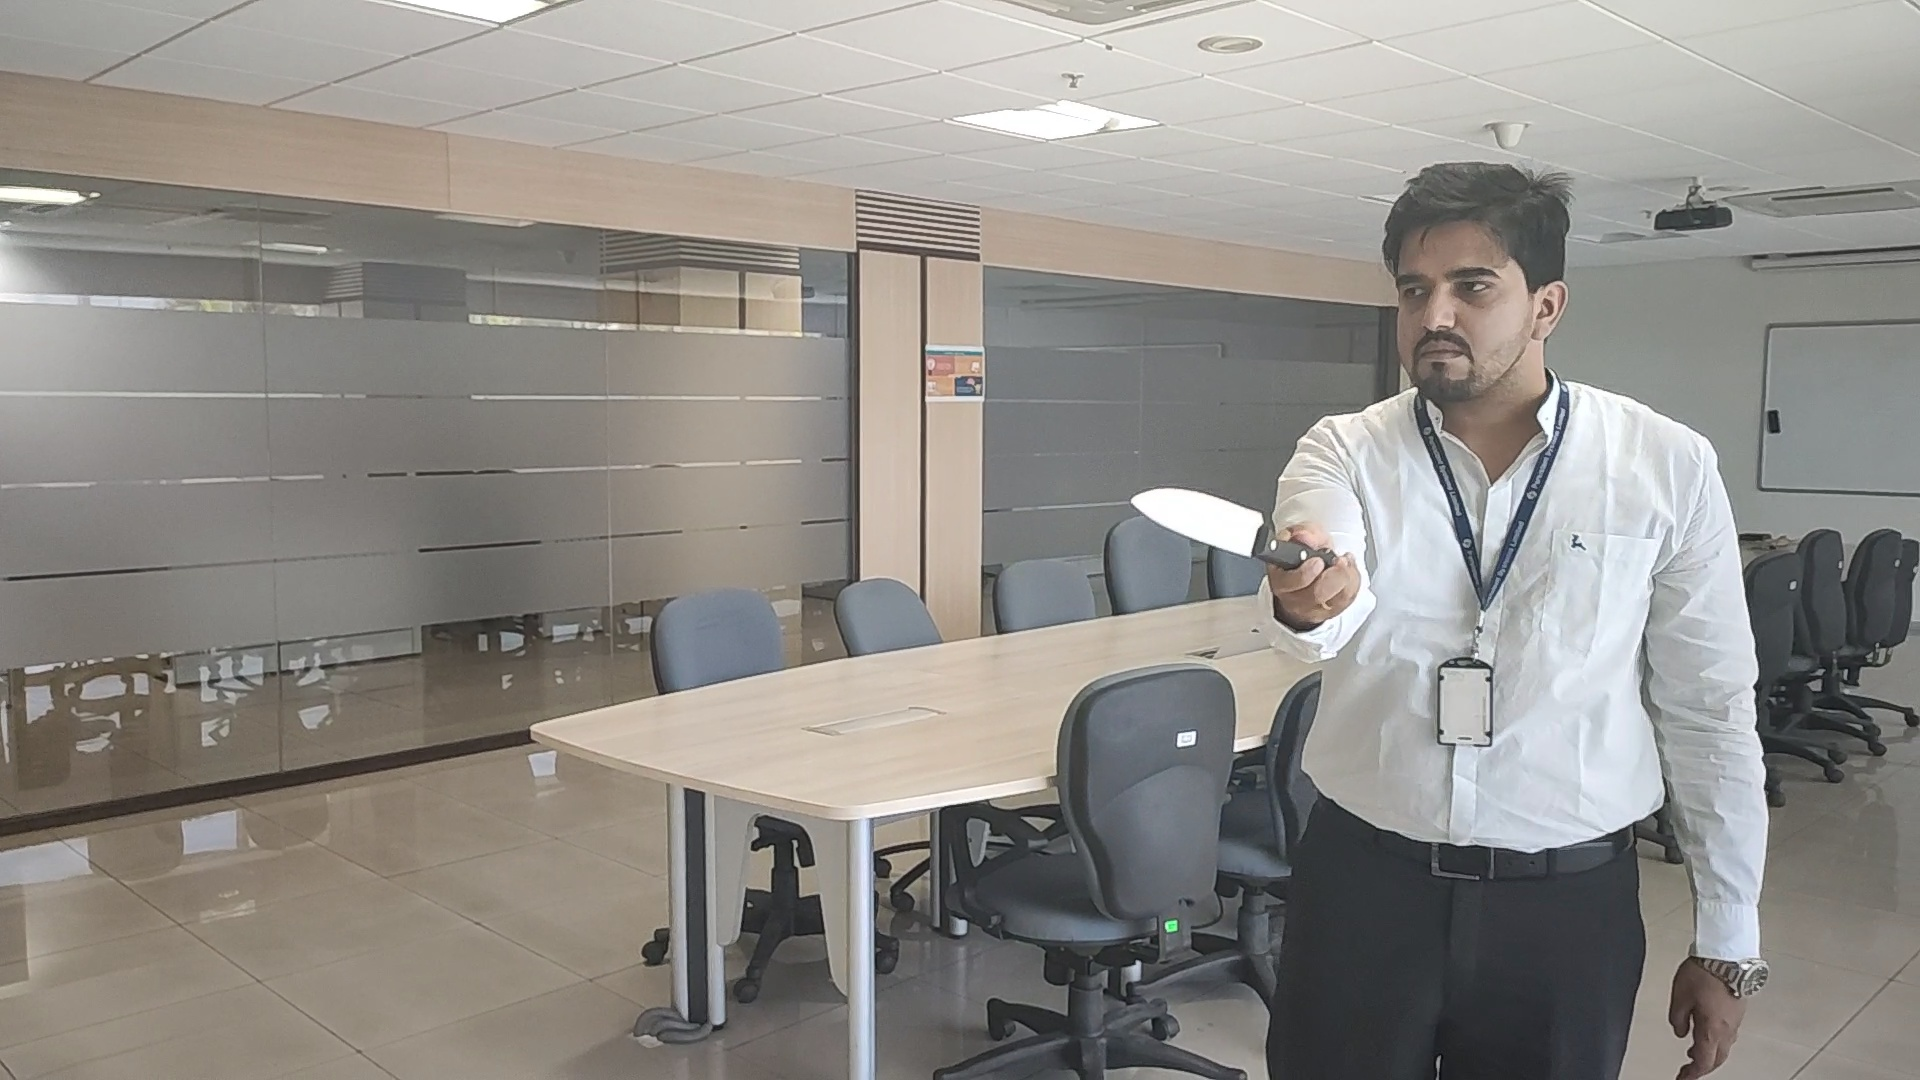knife: (1129, 487, 1302, 568)
